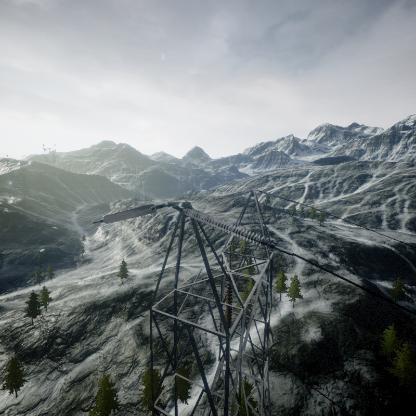insulator: (180, 206, 275, 248), (91, 205, 166, 225), (225, 281, 235, 330)
